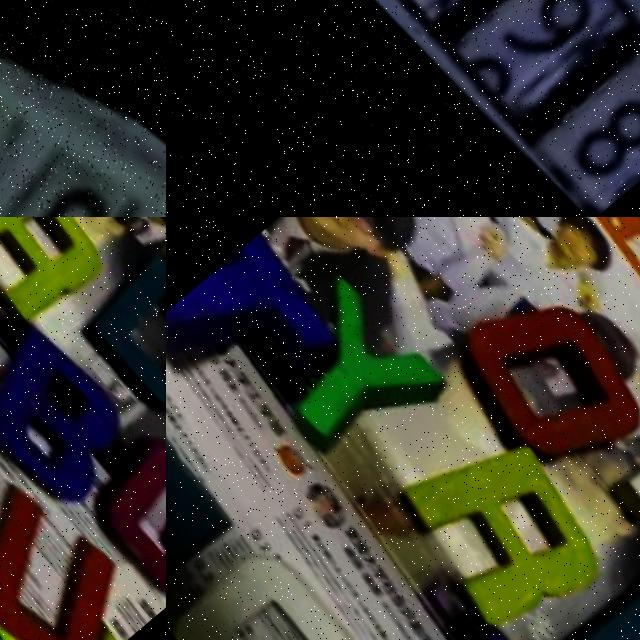0: (0, 140, 150, 217)
8: (560, 86, 640, 197)
9: (491, 0, 611, 85)
B: (0, 320, 136, 516)
D: (83, 254, 166, 433), (557, 549, 640, 640)
G: (85, 433, 166, 616)
M: (166, 354, 235, 597)
O: (444, 273, 640, 509)
R: (390, 411, 618, 640), (0, 217, 116, 344)
T: (166, 223, 358, 448)
U: (0, 464, 151, 640)
Y: (246, 268, 450, 483)
